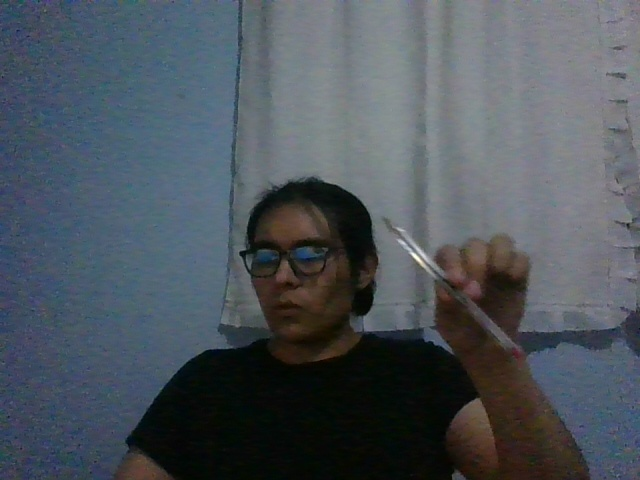pluma: (380, 214, 527, 362)
